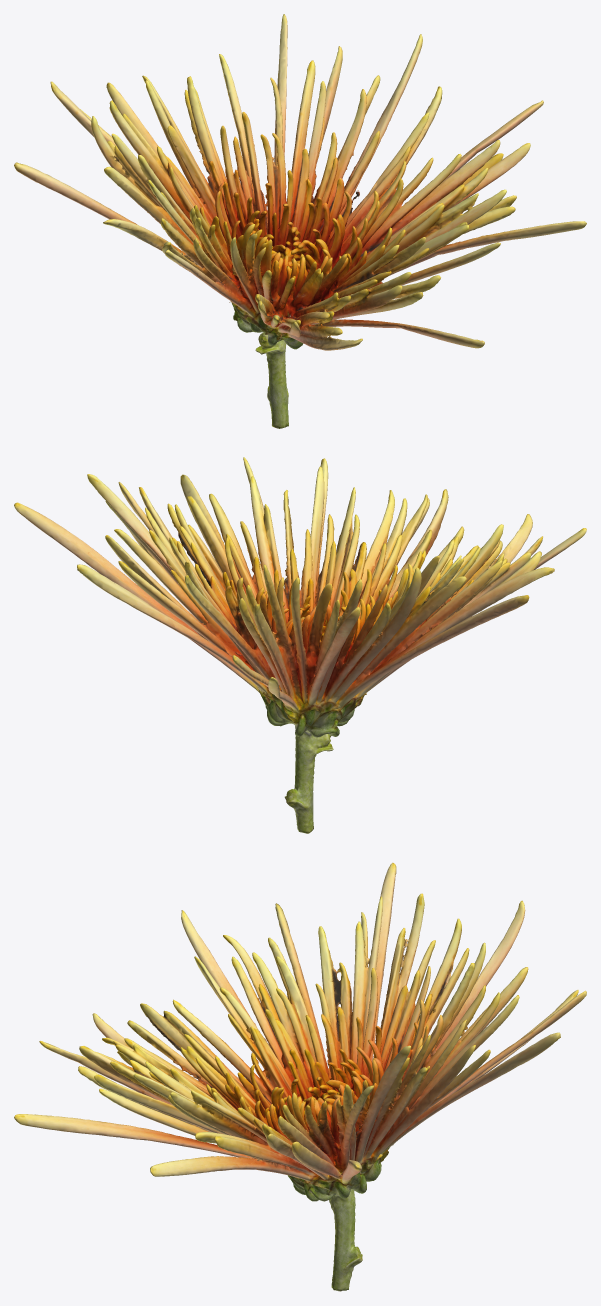
Rendered from flower_03.glb.
3 renders of one model, top to bottom at view 1: azimuth 30°, elevation 25°; view 2: azimuth 150°, elevation 25°; view 3: azimuth 270°, elevation 25°, orthographic. The views are drawn at different scales.
Visible parts, largest first — view 1: Export Metashape; view 2: Export Metashape; view 3: Export Metashape.
Boxes of the visible parts, <box> form: Export Metashape: <box>14,14,586,428</box>; Export Metashape: <box>14,457,586,833</box>; Export Metashape: <box>14,862,586,1291</box>.
Size of the model in its own units: 0.5869 by 0.3559 by 0.5593.
Materials: 1 (1 with a texture image).
